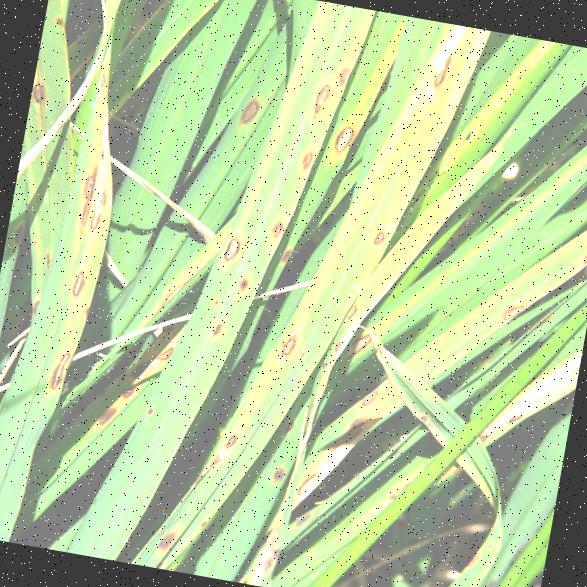Brown_Spot: (67, 164, 119, 238), (32, 334, 80, 402), (419, 38, 459, 98), (203, 221, 249, 270), (55, 260, 98, 304), (300, 71, 335, 123), (320, 117, 362, 157), (150, 516, 190, 557), (260, 204, 292, 251), (322, 50, 359, 90), (270, 322, 306, 362), (494, 292, 534, 328), (234, 85, 264, 127), (86, 398, 128, 428), (458, 538, 492, 574), (290, 137, 320, 177), (84, 54, 114, 92), (262, 456, 298, 486), (569, 215, 587, 272), (294, 462, 323, 496), (29, 77, 57, 112), (364, 217, 392, 250), (215, 421, 247, 449), (354, 383, 384, 408), (200, 314, 228, 339), (46, 9, 72, 30), (138, 399, 156, 418)
